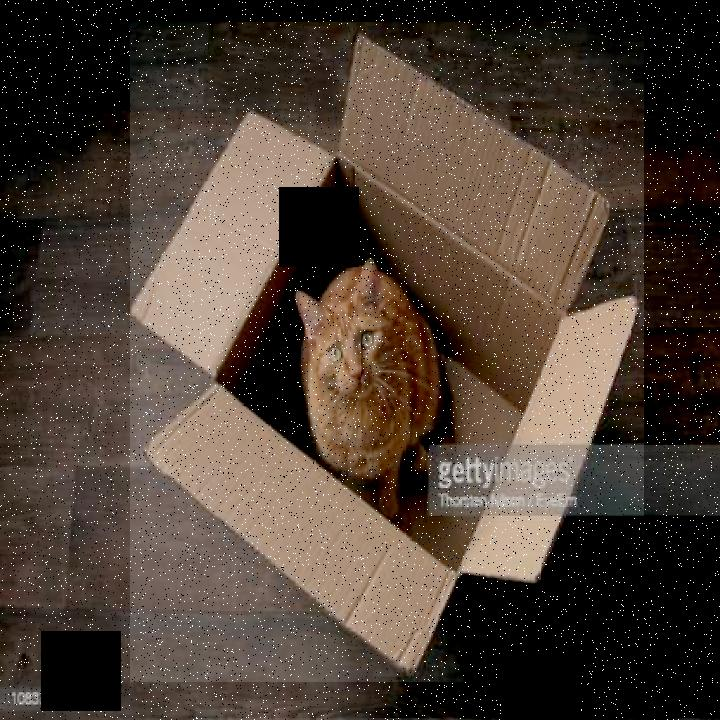box: (130, 22, 644, 682)
